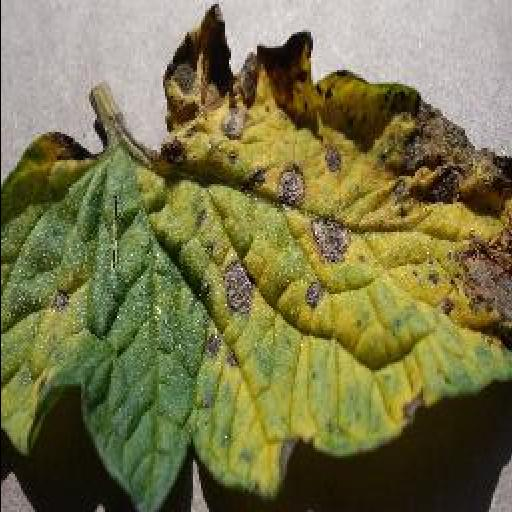disease_tomato: (0, 6, 508, 512)
